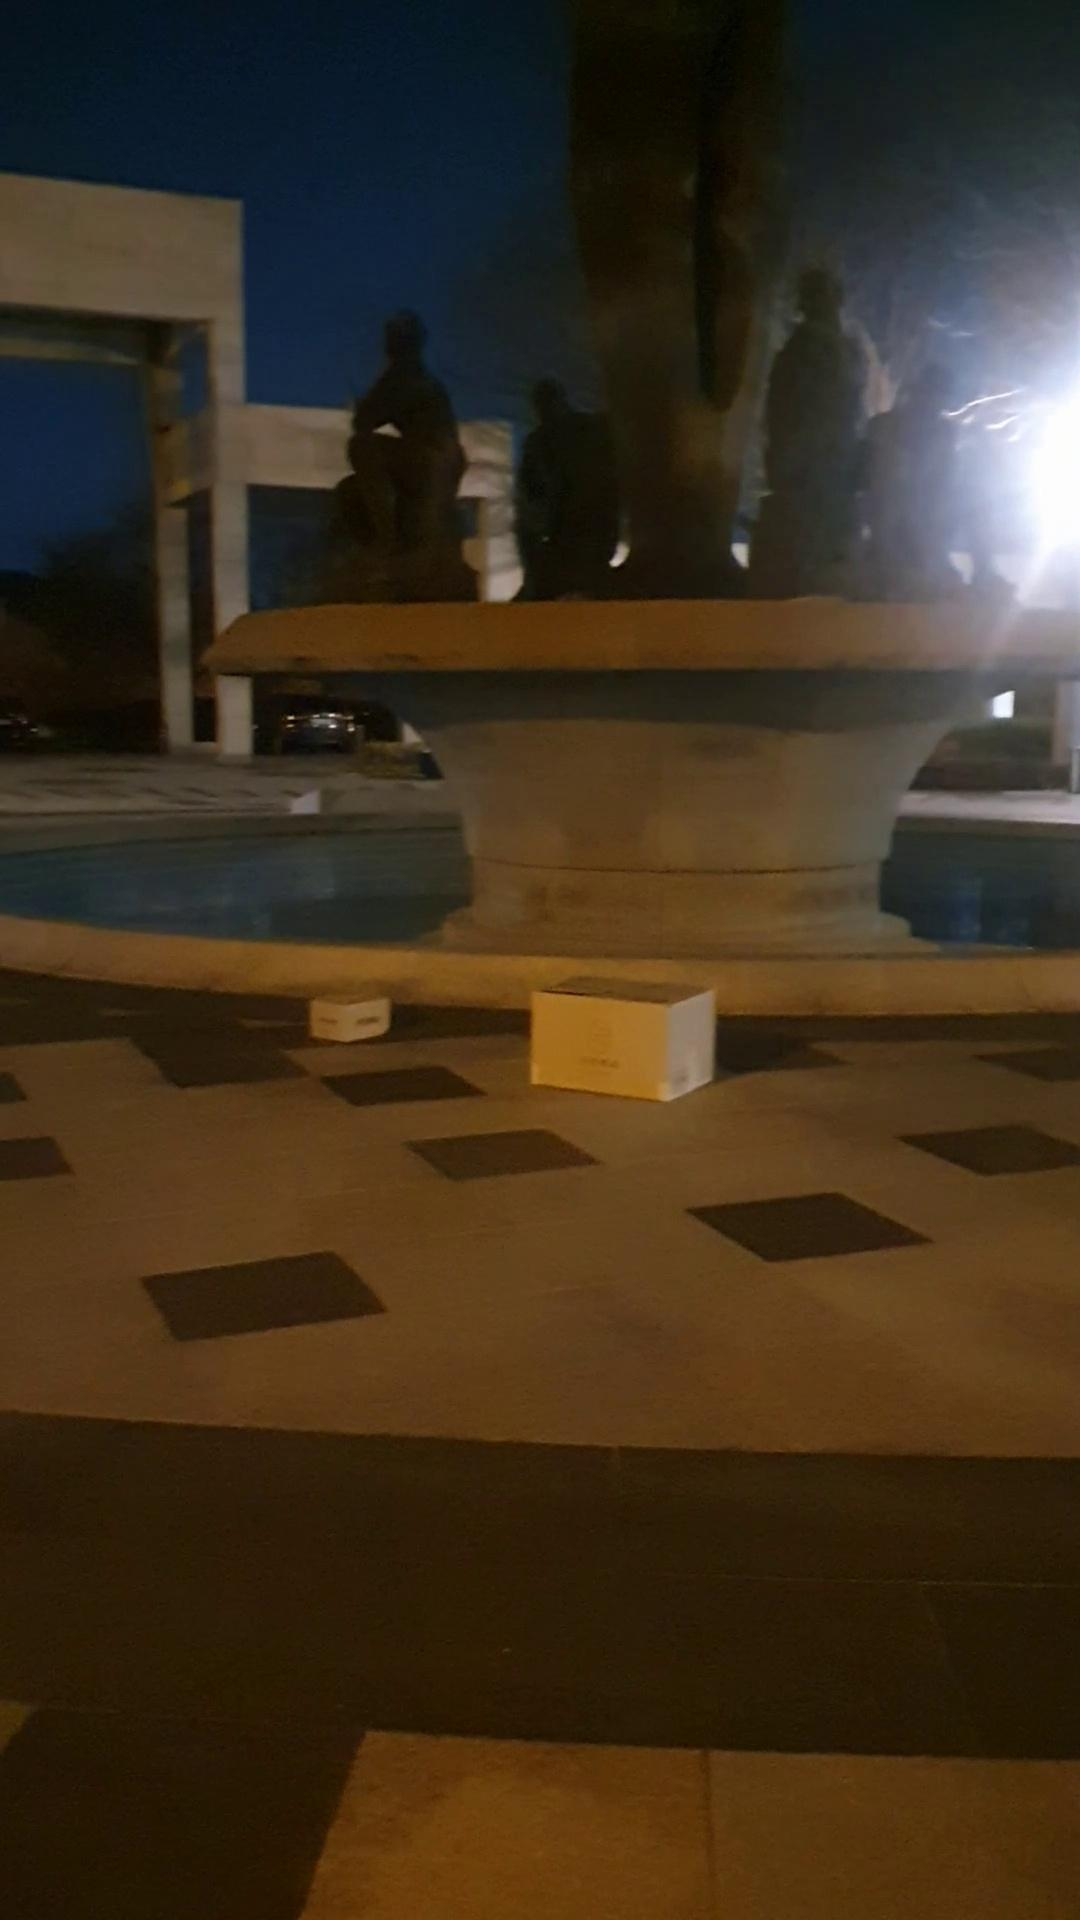Box: (512, 963, 717, 1110), (301, 985, 398, 1050)
